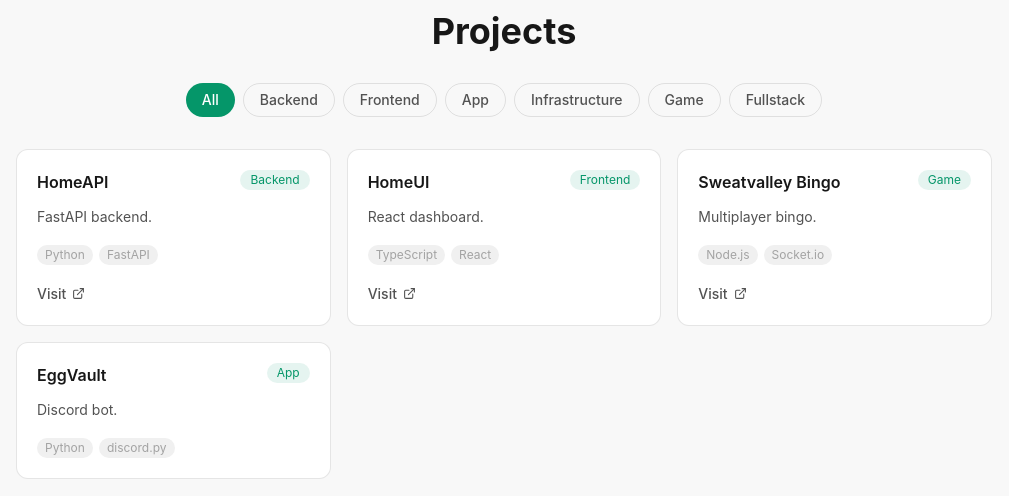
ProjectsSection › shows all projects when All filter is selected
Click the button "Backend" at x=289, y=100, box x1=243 y1=83 x2=335 y2=117
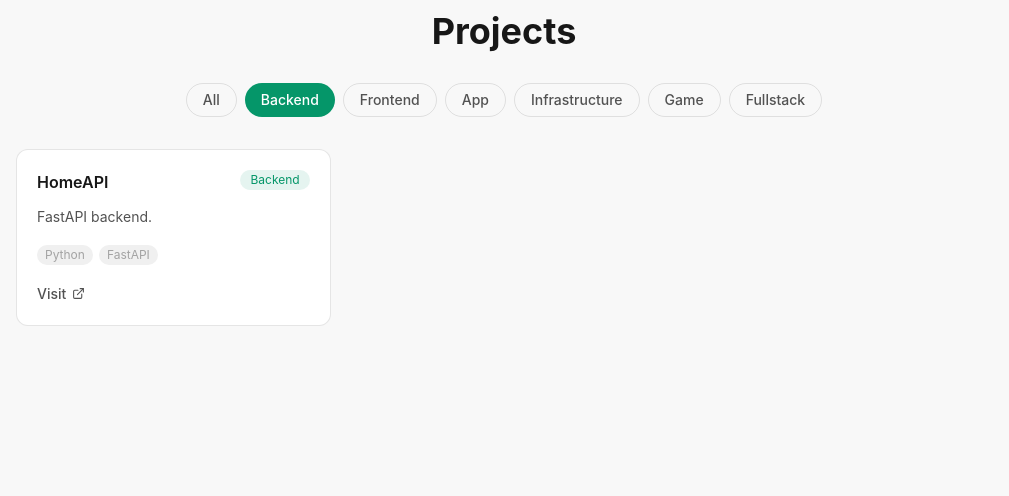
Click the button "All" at x=211, y=100, box x1=186 y1=83 x2=237 y2=117
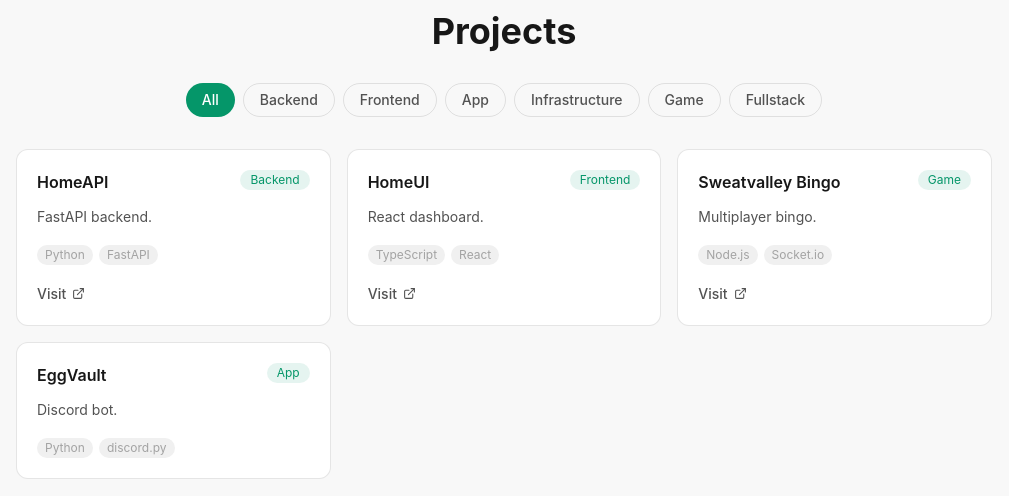
Expected: the heading "HomeAPI" is shown, x1=37 y1=170 x2=108 y2=194
Now the heading "HomeUI" is shown, box x1=368 y1=170 x2=430 y2=194
